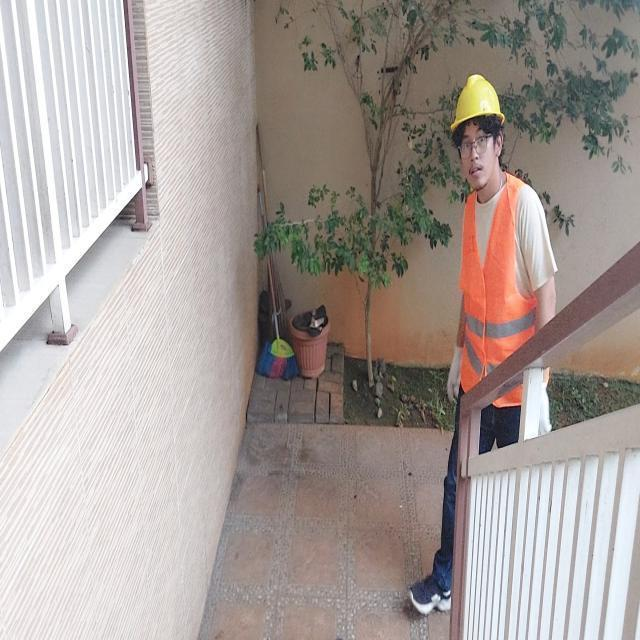helmet: (454, 73, 509, 130)
safety_vest: (460, 189, 550, 410)
